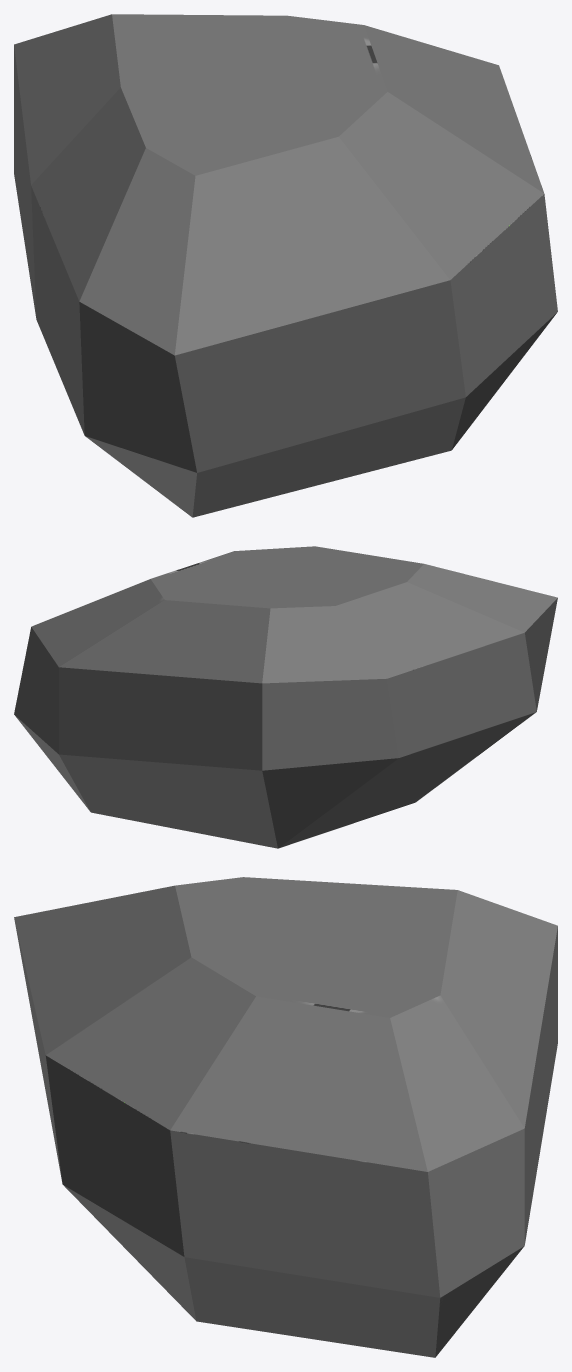
The model's file is kaya2.fbx.
3 views of the same model, one above another, from view 1: azimuth 30°, elevation 25°; view 2: azimuth 150°, elevation 25°; view 3: azimuth 270°, elevation 25° (orthographic). The views are drawn at different scales.
Parts seen in each view (by area): view 1: Uçak; view 2: Uçak; view 3: Uçak.
Part boxes in pixels (box(x1,y1,x2,y2)): Uçak: box(14, 14, 557, 517); Uçak: box(14, 546, 557, 848); Uçak: box(14, 877, 557, 1357).
Bounding box in the file's own units: 1.61 × 0.974 × 1.39.
Materials: 1 (1 with a texture image).
